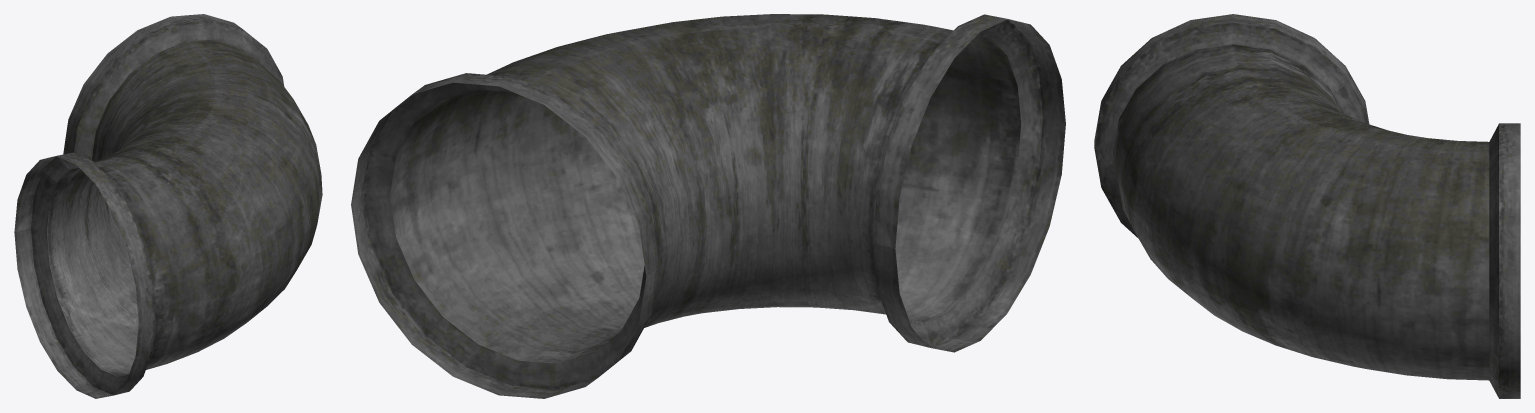
File: Horizontal_pipes_v1_6 .fbx
3 renders of one model, left to right at view 1: azimuth 30°, elevation 25°; view 2: azimuth 150°, elevation 25°; view 3: azimuth 270°, elevation 25°, orthographic. The views are drawn at different scales.
Parts seen in each view (by area): view 1: Horizontal_pipes_v1_6_; view 2: Horizontal_pipes_v1_6_; view 3: Horizontal_pipes_v1_6_.
Part boxes in pixels (bbox=[...]): Horizontal_pipes_v1_6_: bbox=[14, 14, 322, 398]; Horizontal_pipes_v1_6_: bbox=[351, 14, 1065, 398]; Horizontal_pipes_v1_6_: bbox=[1094, 14, 1520, 398].
Size of the model in its own units: 289 by 188 by 289.
